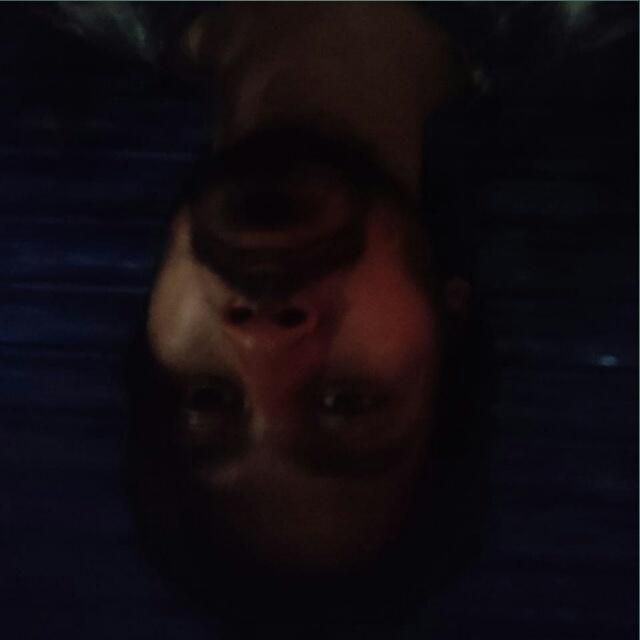Sad: (135, 17, 461, 638)
